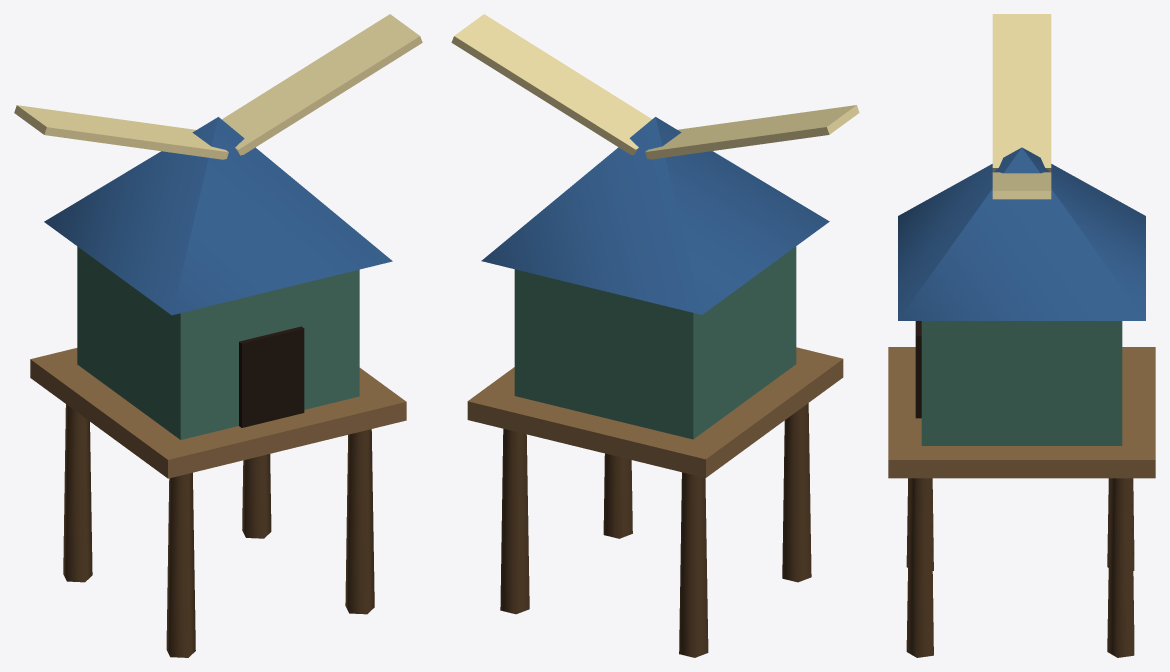
File: level1.glb
The picture shows the model from 3 angles, left to right: view 1: azimuth 30°, elevation 25°; view 2: azimuth 150°, elevation 25°; view 3: azimuth 270°, elevation 25°; orthographic projection. The views are drawn at different scales.
Bounding box in the file's own units: 2.54 × 3.35 × 1.6.
